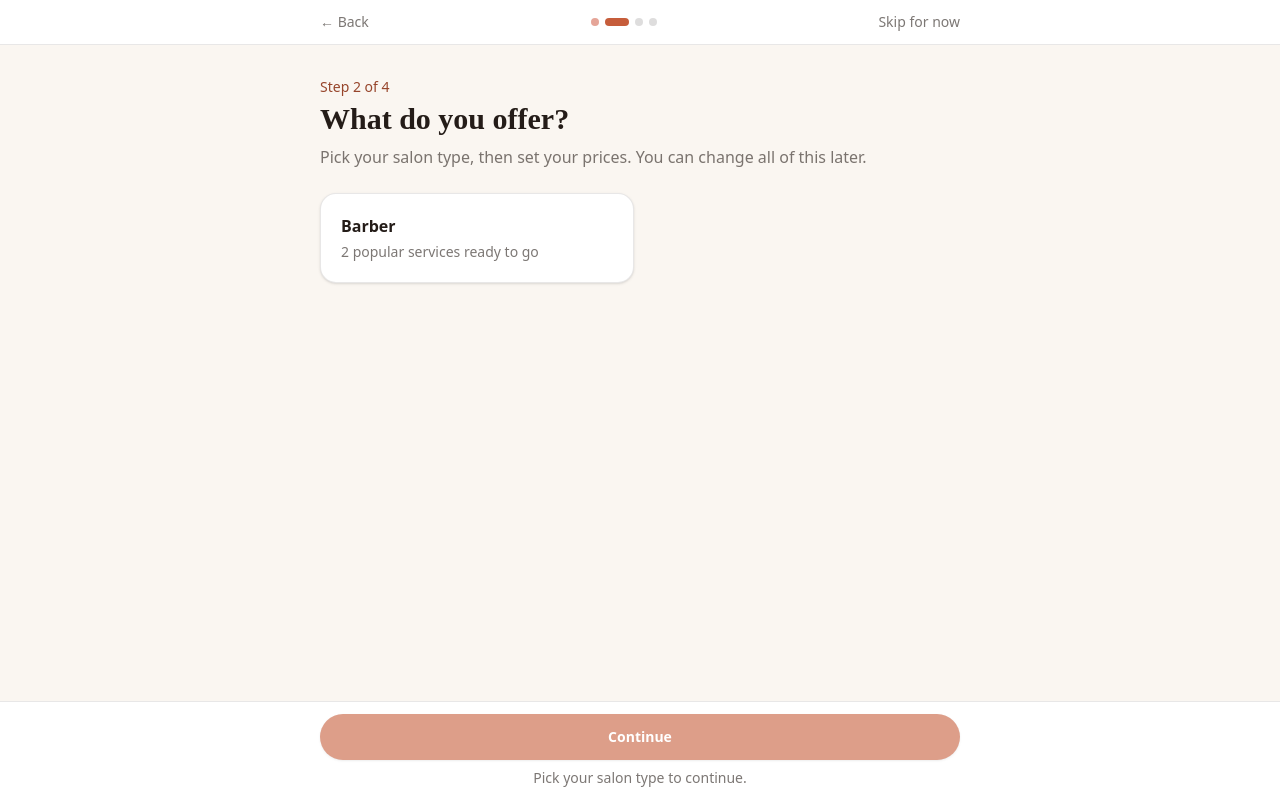
Test: StepServices › ignores the price of a row the owner unticked
Click the button "Barber 2 popular services ready to go" at (368, 226), box top-left (320, 193), bottom-right (634, 283)
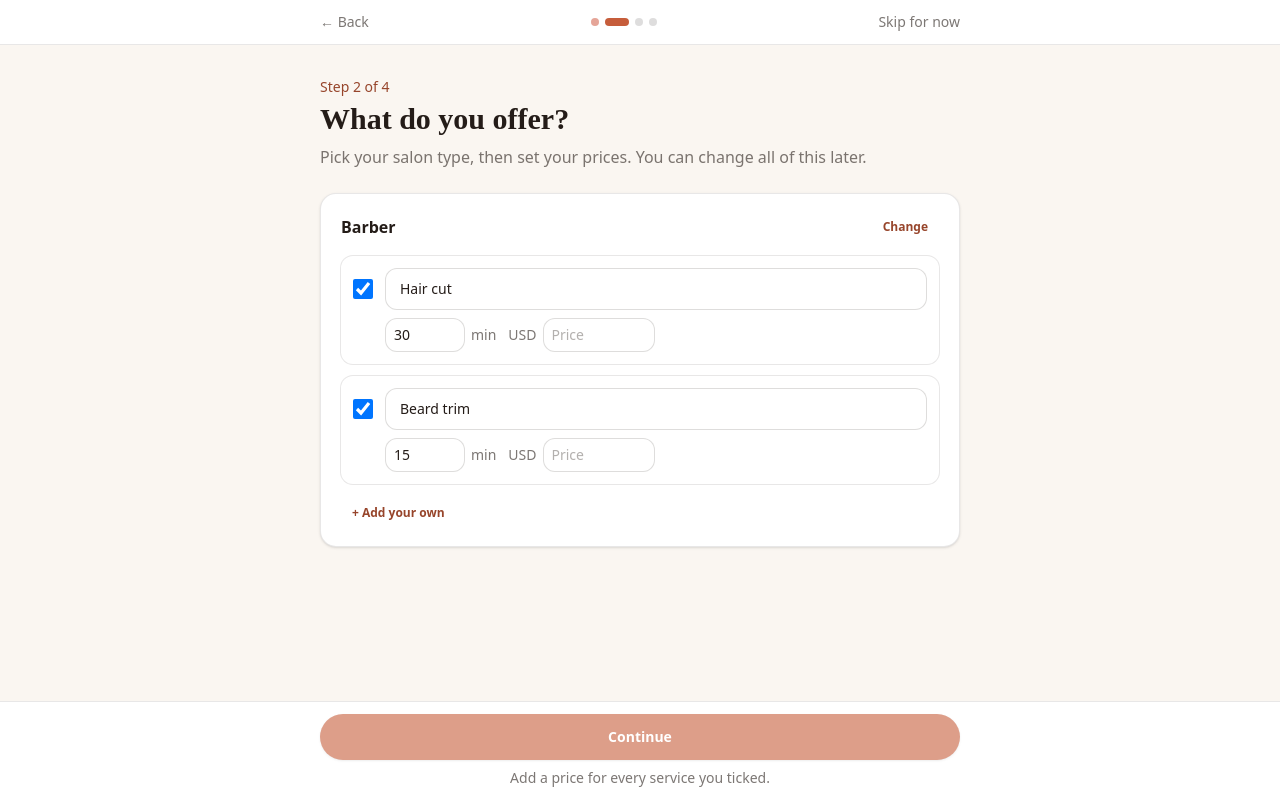
Click the 2nd checkbox at (363, 409), box top-left (353, 399), bottom-right (373, 419)
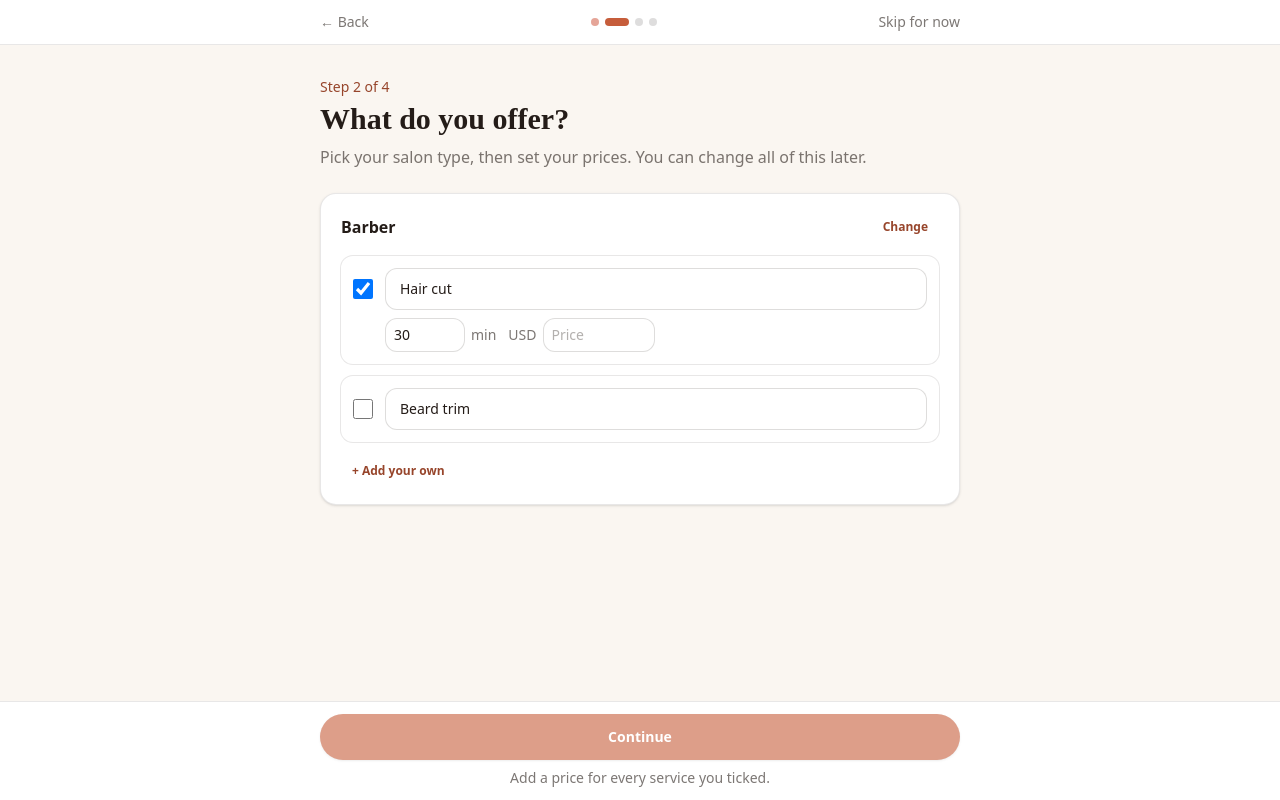
Type "12" into the number field with placeholder "Price" at (598, 335), box top-left (542, 318), bottom-right (654, 352)
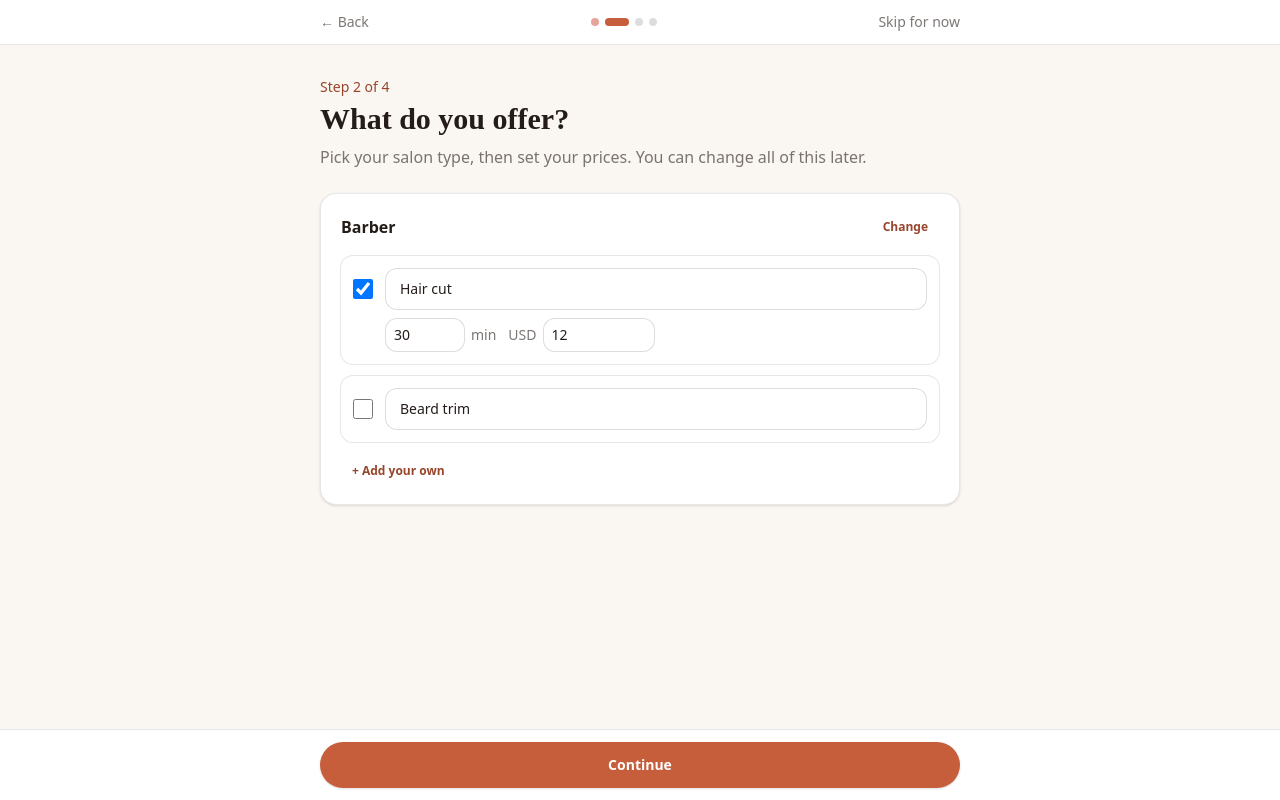
Result: the button "Continue" is enabled at top-left (320, 742), bottom-right (960, 788)
